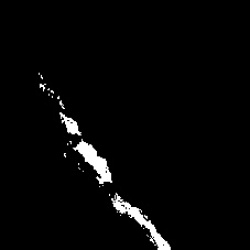crack: (39, 73, 173, 249)
